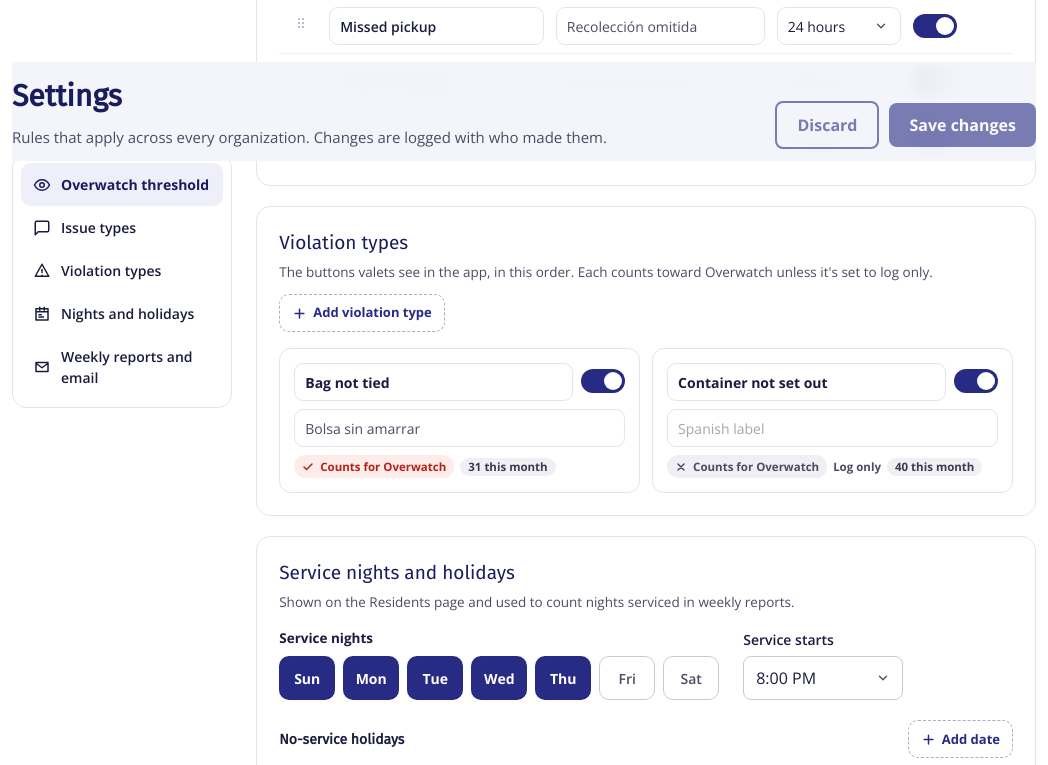
it: SettingsPage › blocks saving until problems are fixed, and discards edits
(page scrolled)
Clear the 1st field named "Violation label" at (434, 382), box left=294, top=363, right=573, bottom=401
(page scrolled)
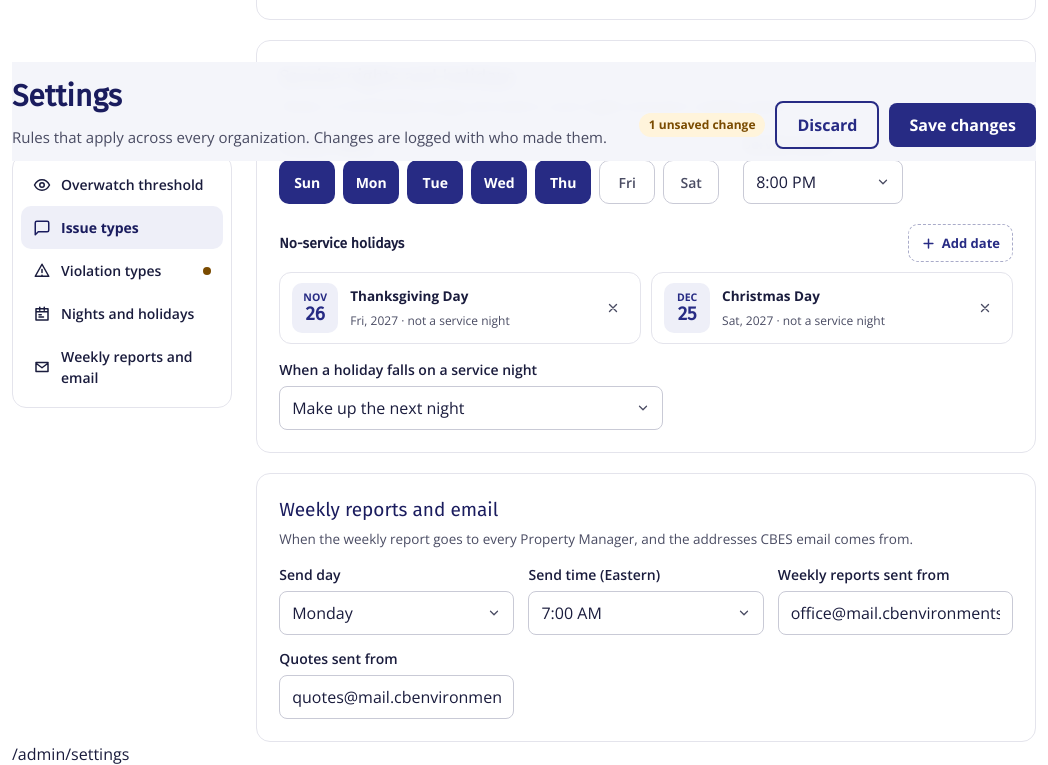
Replace the text in the field labelled "Quotes sent from" with "nick@gmail.com" at (397, 697), box left=279, top=675, right=514, bottom=719
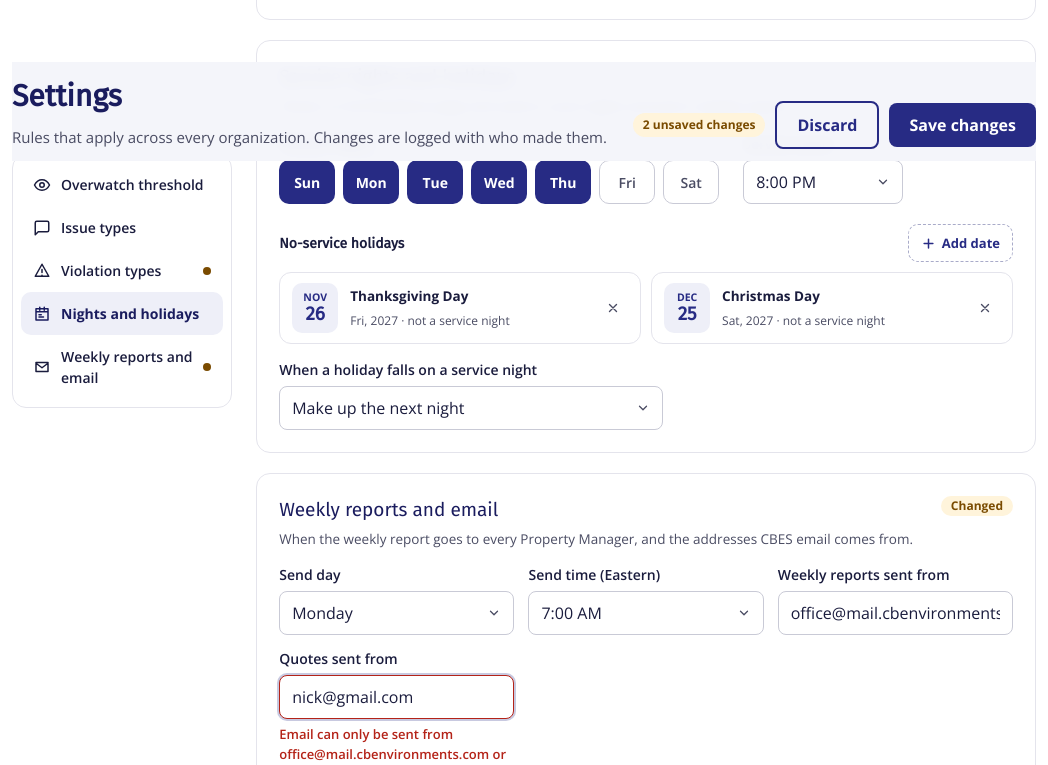
Click the button "Save changes".
click(963, 125)  # box left=889, top=103, right=1036, bottom=147
(page scrolled)
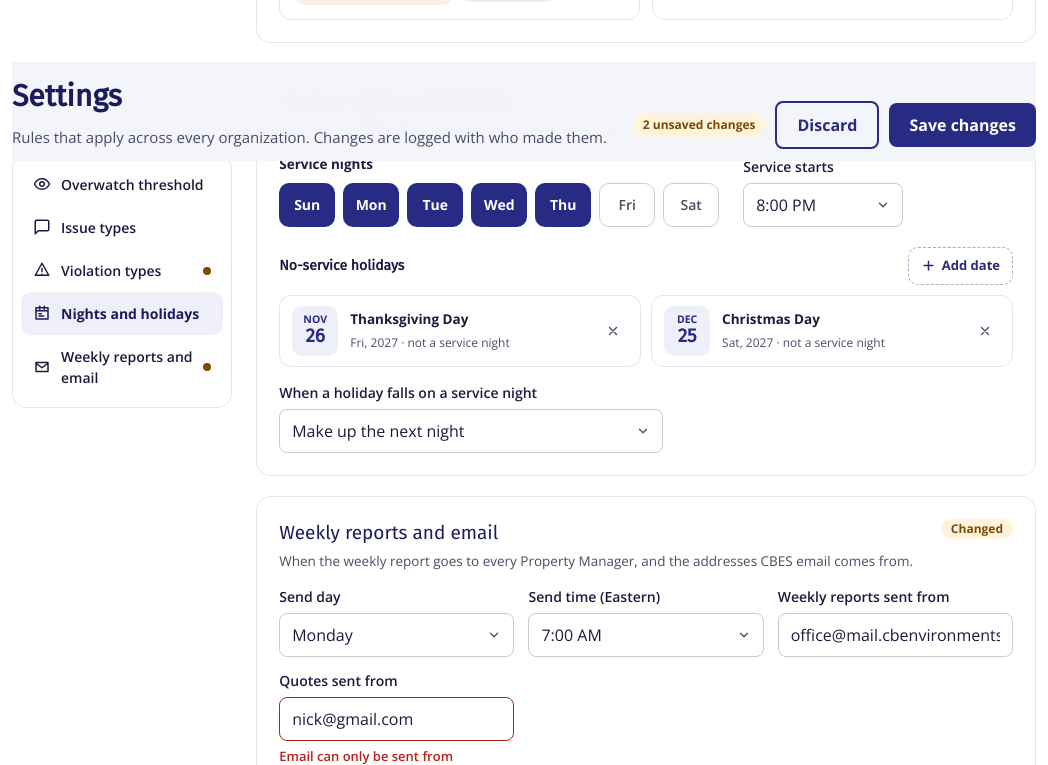
Click the button "Discard".
click(828, 125)  # box left=776, top=101, right=880, bottom=149
(page scrolled)
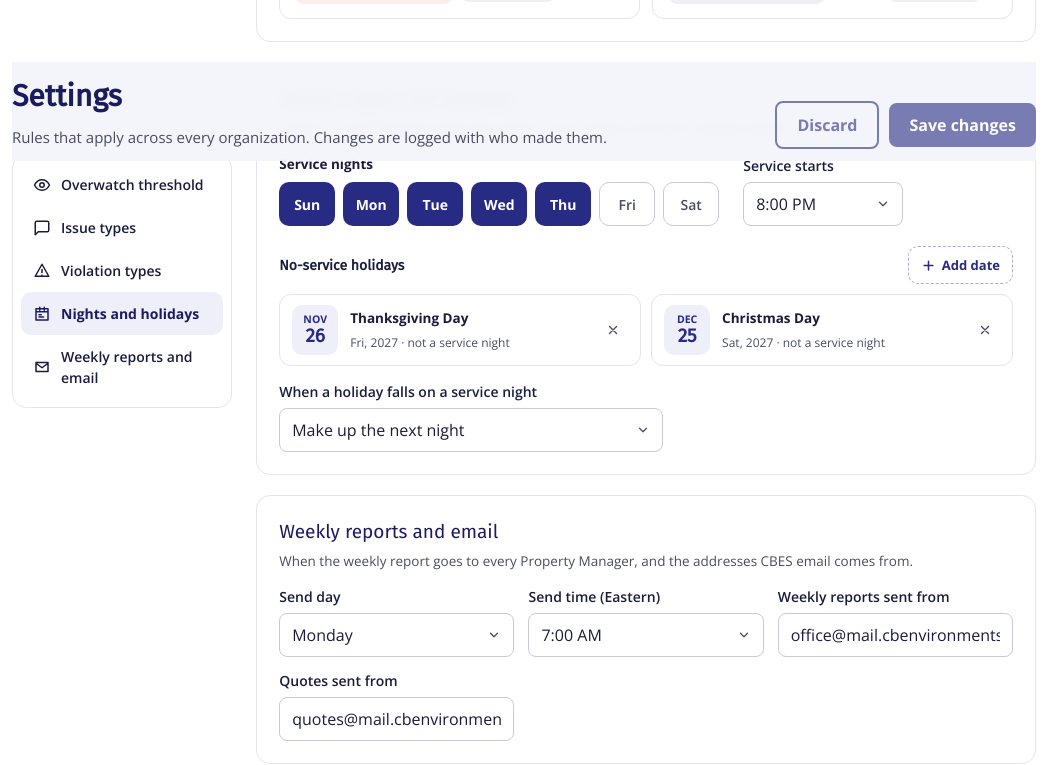
Expected: the field labelled "Quotes sent from" holds "quotes@mail.cbenvironments.com", left=279, top=697, right=514, bottom=741
Expected: the button "Save changes" is disabled, left=889, top=103, right=1036, bottom=147
